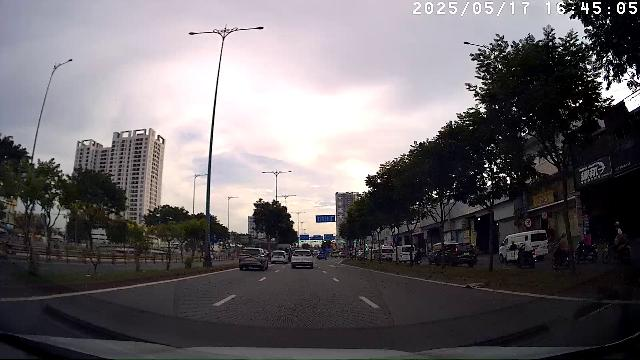127-toc-do-toi-da-50: (524, 218, 532, 228)
